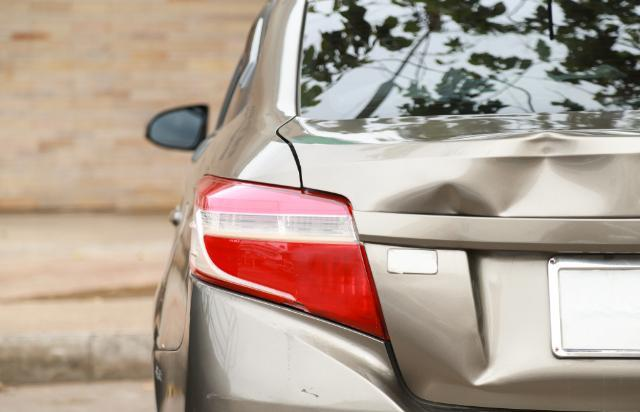dent: (379, 131, 624, 219), (465, 336, 501, 386)
lamp broken: (187, 175, 388, 341)
